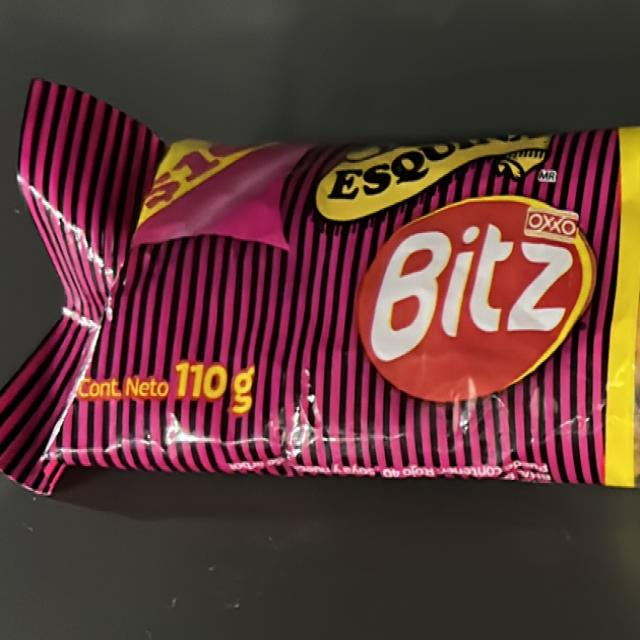bitzHabanero: (0, 129, 640, 491)
